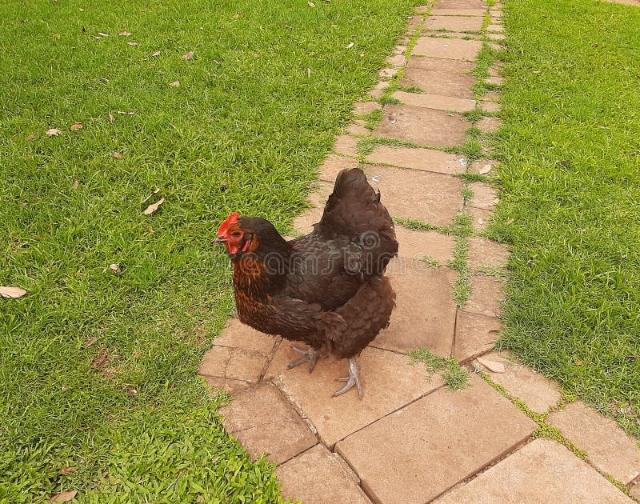Chicken: (216, 166, 398, 399)
